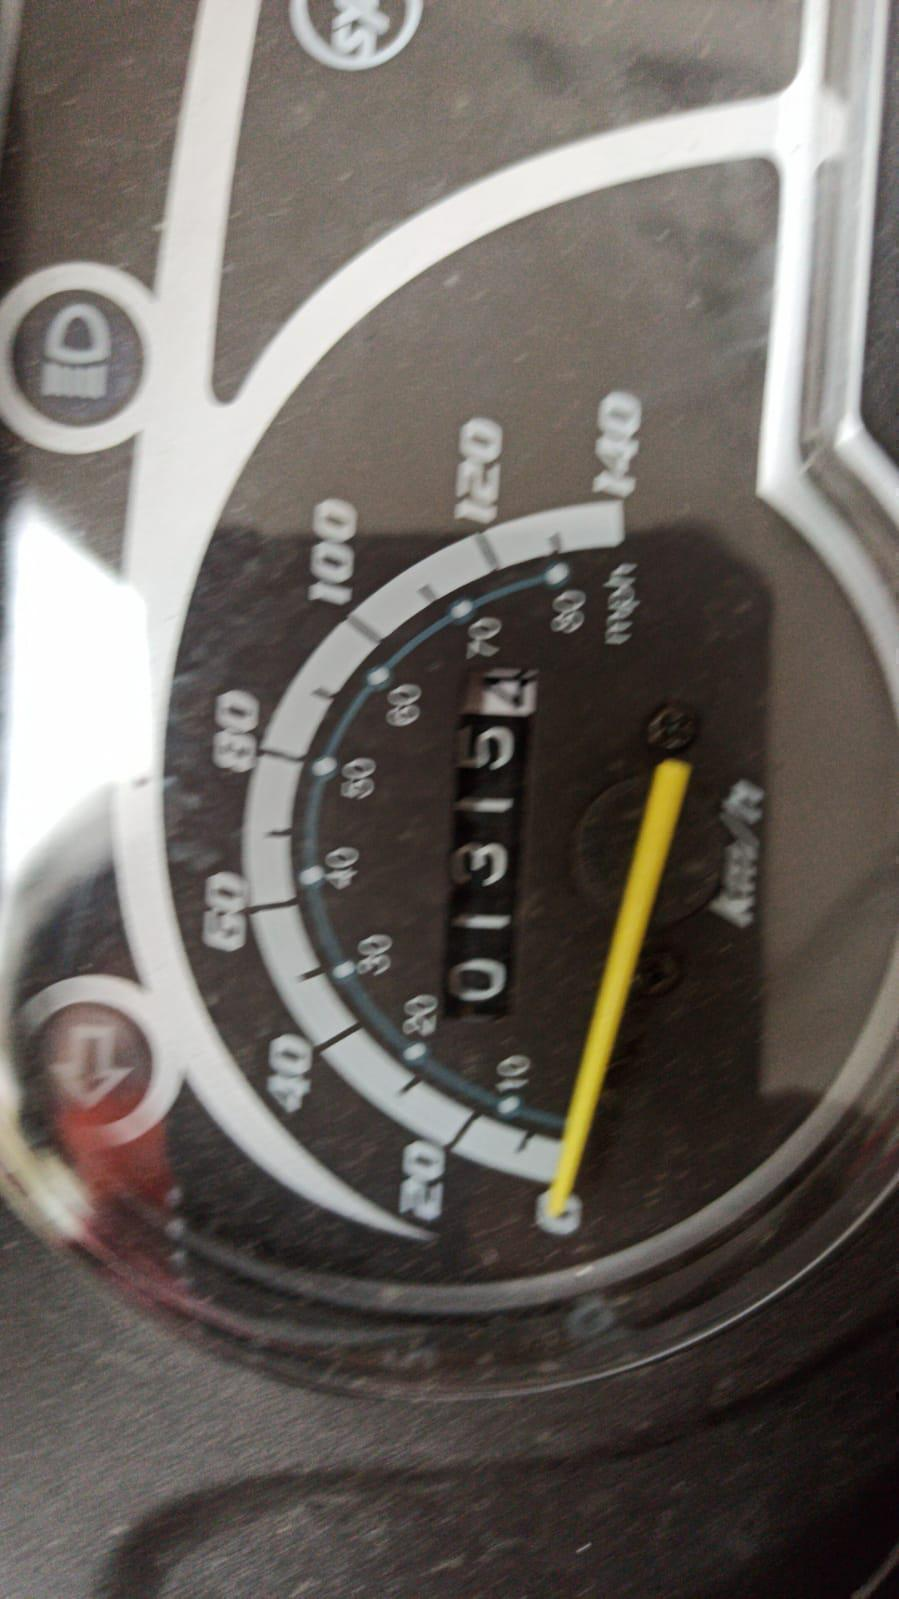0: (446, 952, 510, 1005)
1: (446, 789, 519, 819), (448, 906, 517, 936)
3: (448, 837, 512, 888)
4: (472, 661, 538, 709)
5: (448, 719, 518, 770)
odometer: (438, 656, 541, 1028)
